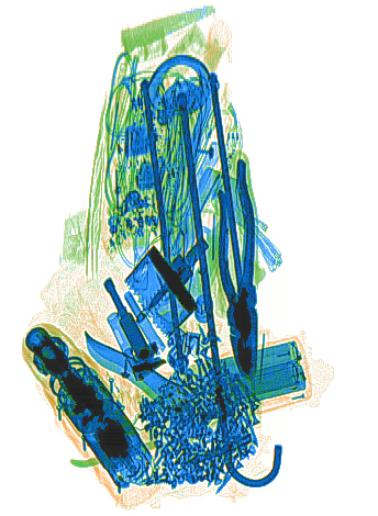battery: (212, 339, 306, 413)
